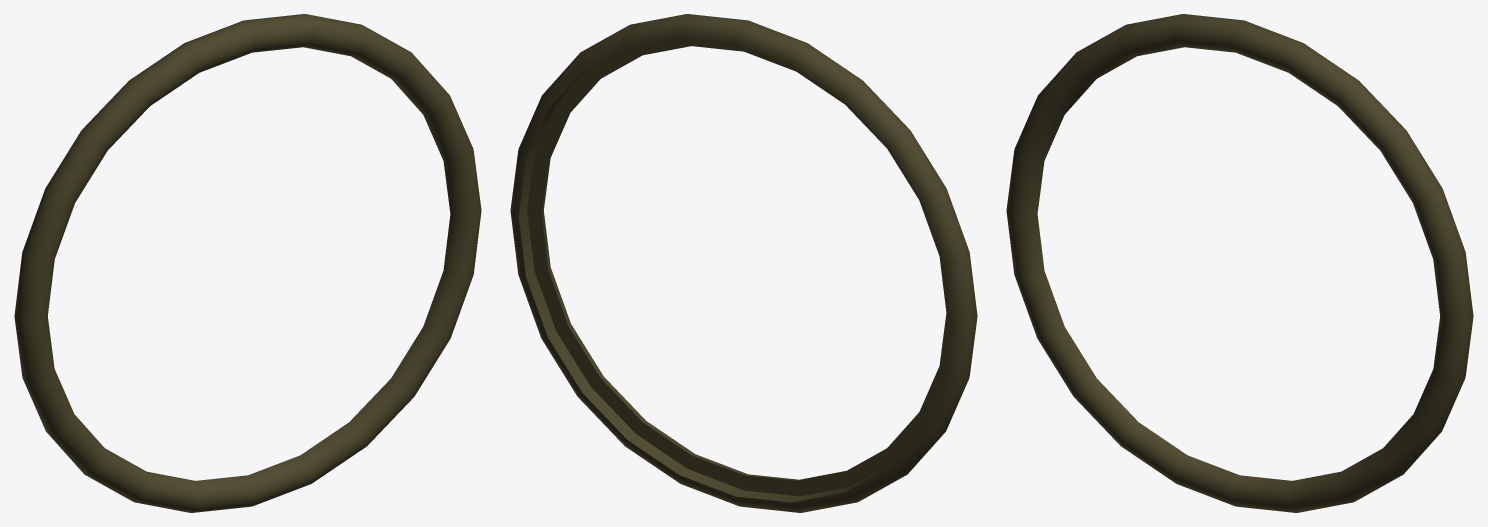
Rendered from original-1.obj.
The picture shows the model from 3 angles, left to right: view 1: azimuth 30°, elevation 25°; view 2: azimuth 150°, elevation 25°; view 3: azimuth 330°, elevation 25°; orthographic projection.
Parts seen in each view (by area): view 1: Group1/mesh1/mesh1-geometry#mesh1-geometry; view 2: Group1/mesh1/mesh1-geometry#mesh1-geometry; view 3: Group1/mesh1/mesh1-geometry#mesh1-geometry.
Boxes of the visible parts, x1,y1,x2,y2 form: Group1/mesh1/mesh1-geometry#mesh1-geometry: [14, 14, 481, 512]; Group1/mesh1/mesh1-geometry#mesh1-geometry: [510, 14, 977, 512]; Group1/mesh1/mesh1-geometry#mesh1-geometry: [1006, 14, 1473, 512].
Bounding box in the file's own units: 1.94 × 1.94 × 0.1211.
